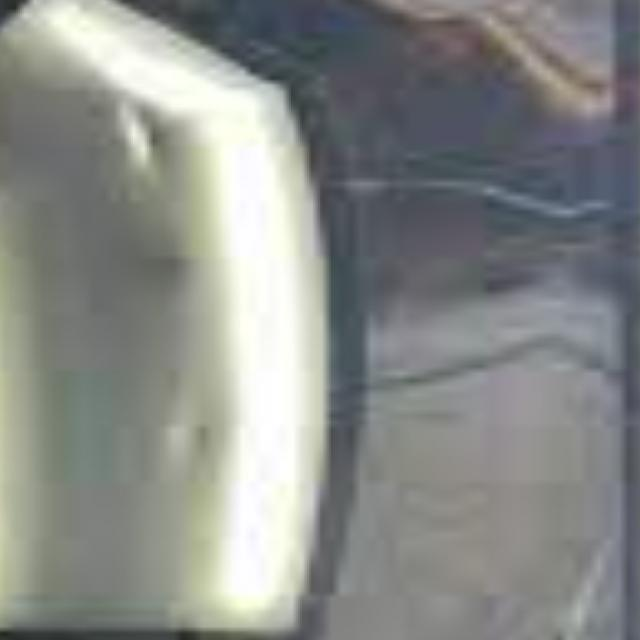dents: (107, 91, 263, 216), (153, 400, 263, 480)
